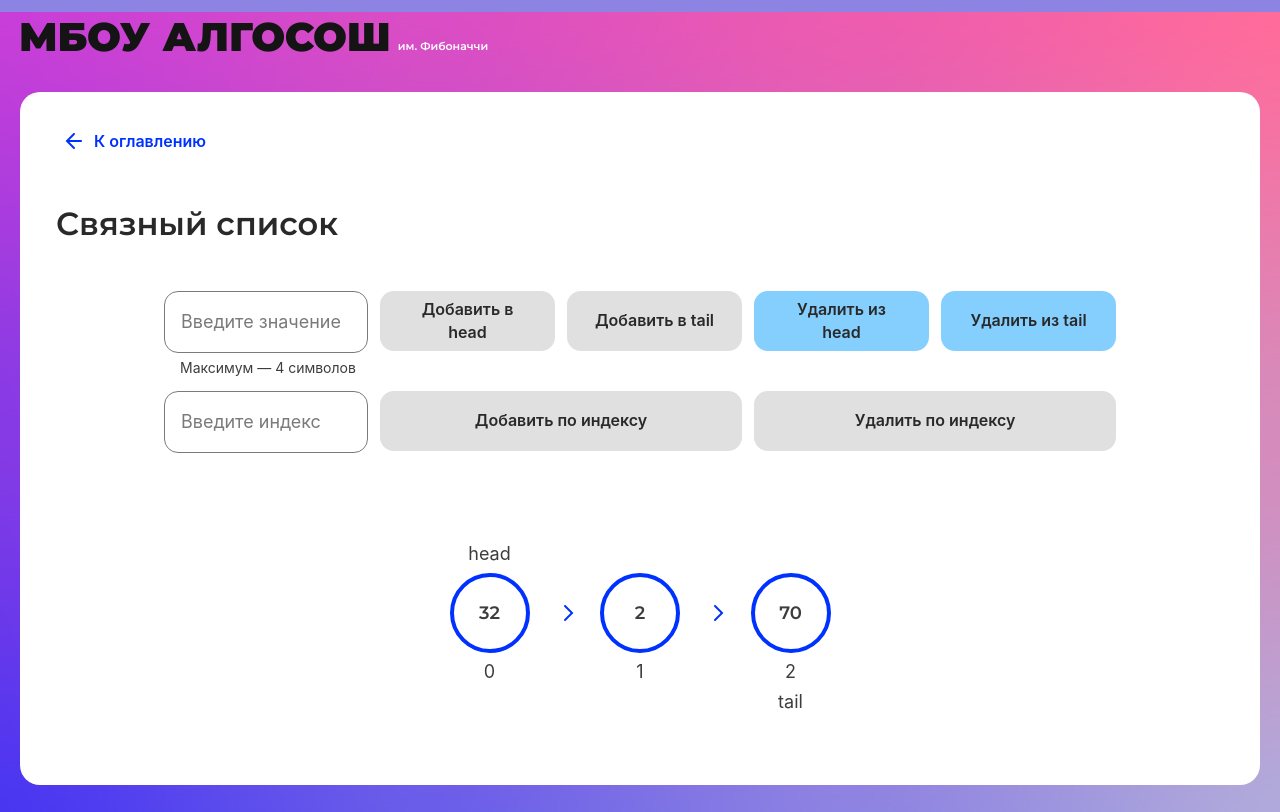
Test: Проверка работы страницы списка: › удаление элемента из head
Check: the element with test id "delH" is enabled
Click the button with test id "delH": (842, 321) [754, 291, 929, 351]
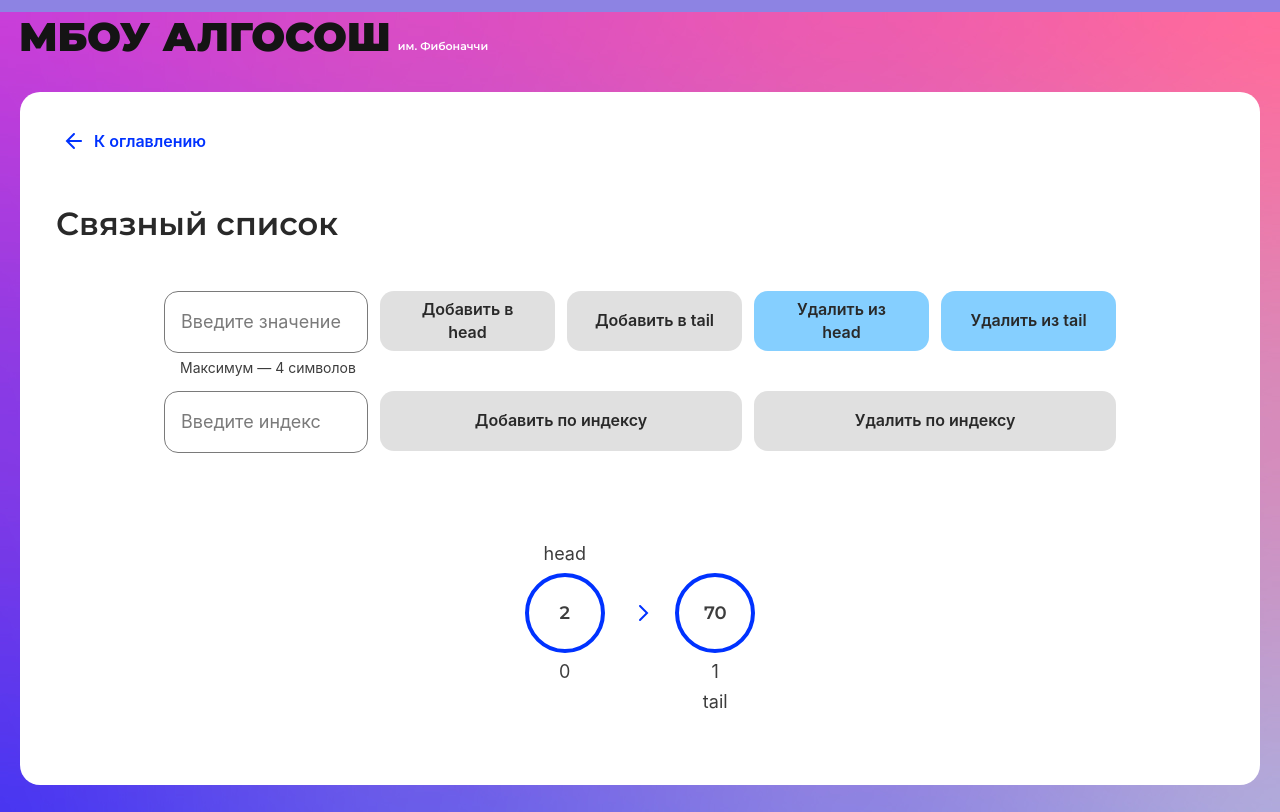
Check: the number of elements with test id "circle" is 2, box [525, 573, 605, 653]; [675, 573, 755, 653]
